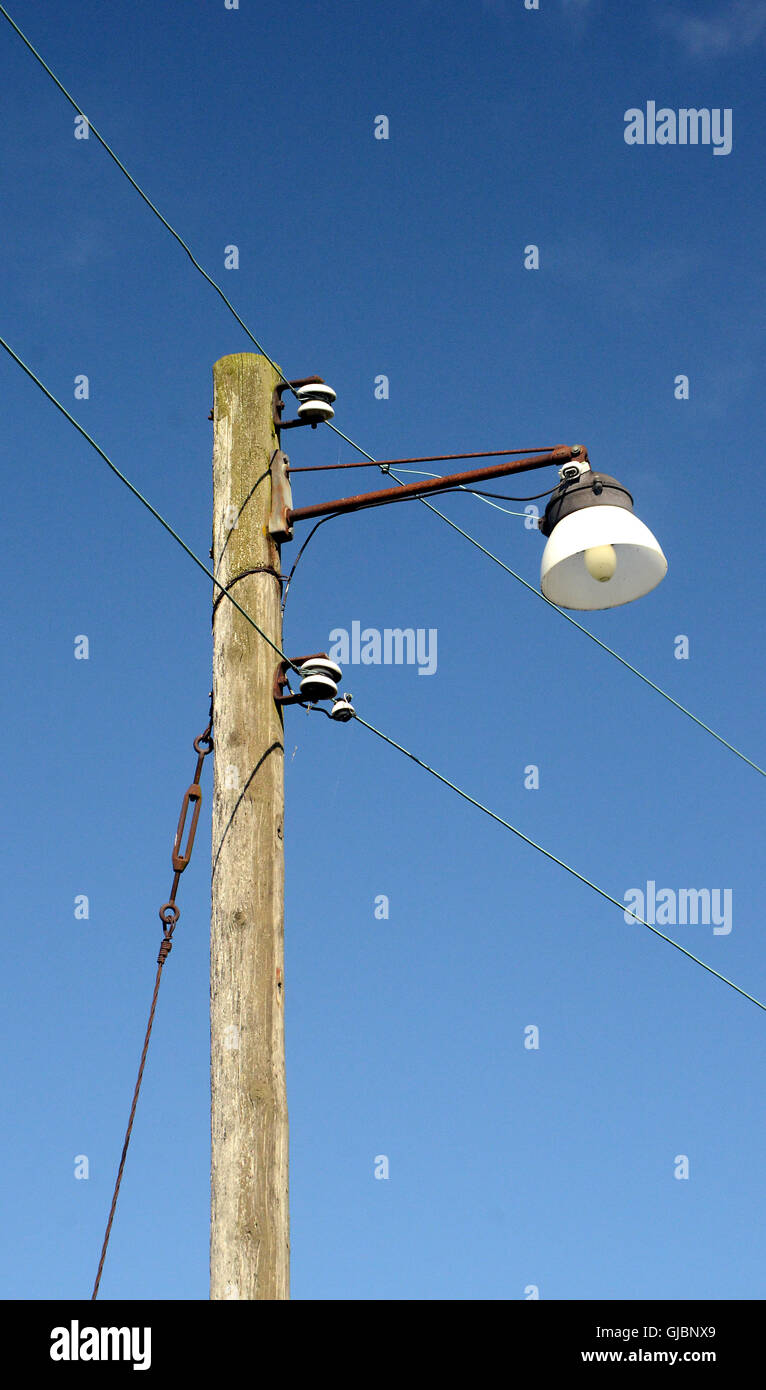light_pole: (188, 306, 300, 1310)
